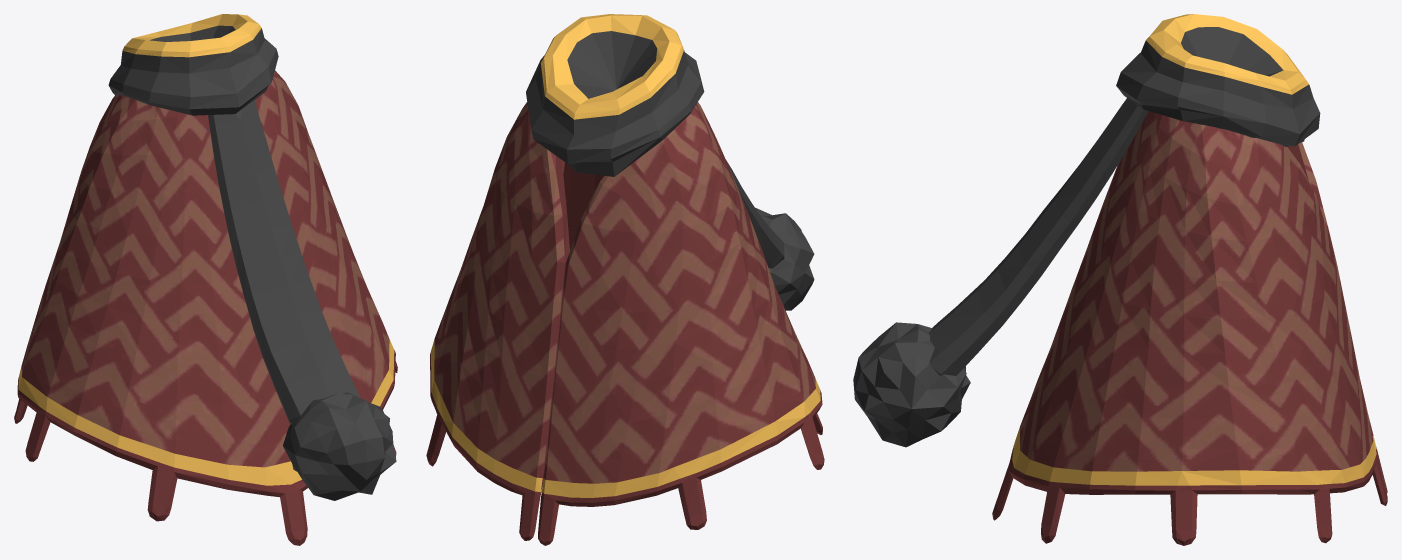
File: CharSkyKid_Wing_AP09Waves_01.glb
3 views of the same model, side by side, from view 1: azimuth 30°, elevation 25°; view 2: azimuth 150°, elevation 25°; view 3: azimuth 270°, elevation 25° (orthographic). The views are drawn at different scales.
Visible parts, largest first — view 1: CharSkyKid_Wing_AP09Waves_01; view 2: CharSkyKid_Wing_AP09Waves_01; view 3: CharSkyKid_Wing_AP09Waves_01.
Boxes of the visible parts, x1=… form: CharSkyKid_Wing_AP09Waves_01: x1=14, y1=14, x2=397, y2=545; CharSkyKid_Wing_AP09Waves_01: x1=426, y1=14, x2=824, y2=545; CharSkyKid_Wing_AP09Waves_01: x1=853, y1=14, x2=1387, y2=545.
Size of the model in its own units: 6.94 by 8.12 by 8.04.
Materials: 1 (1 with a texture image).
